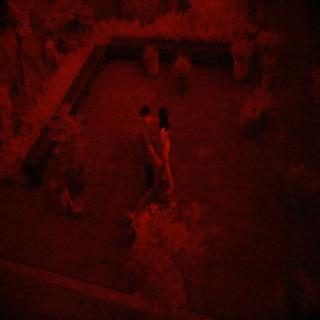person: (154, 97, 184, 200), (131, 100, 160, 191)
